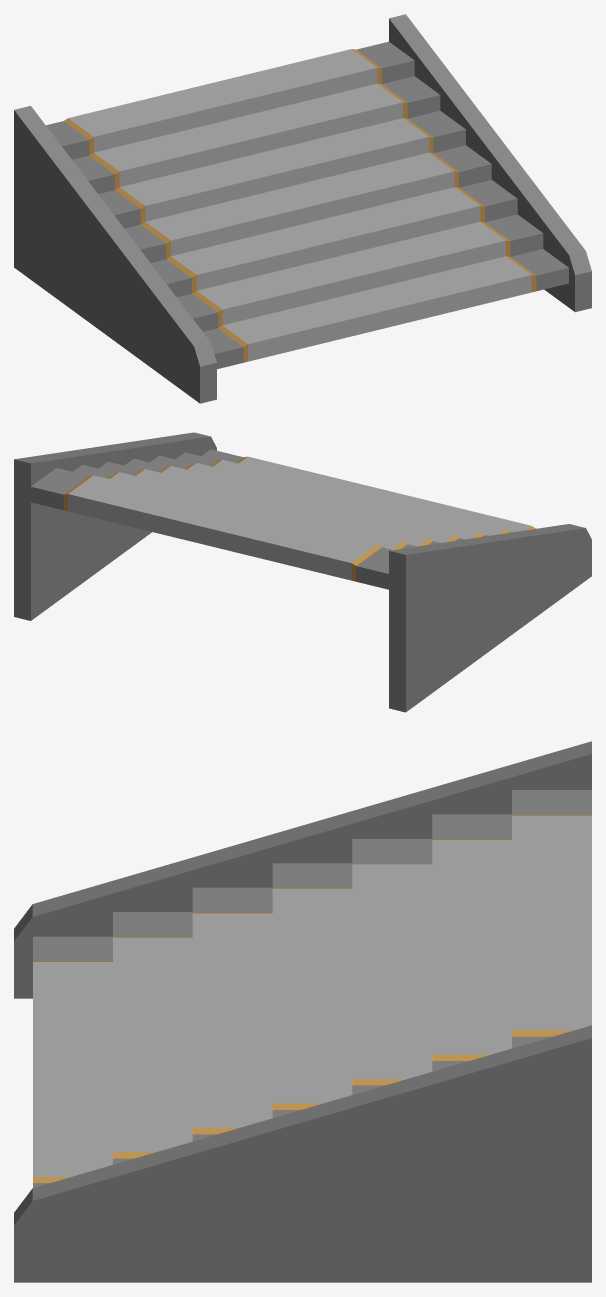
The model's file is Staircase.gltf.
3 views of the same model, one above another, from view 1: azimuth 30°, elevation 25°; view 2: azimuth 150°, elevation 25°; view 3: azimuth 270°, elevation 25° (orthographic). The views are drawn at different scales.
Parts seen in each view (by area): view 1: Staircase; view 2: Staircase; view 3: Staircase.
Part boxes in pixels (bbox=[...]): Staircase: bbox=[14, 14, 591, 403]; Staircase: bbox=[14, 432, 591, 712]; Staircase: bbox=[14, 741, 591, 1282].
Bounding box in the file's own units: 3.78 × 1.45 × 3.11.
